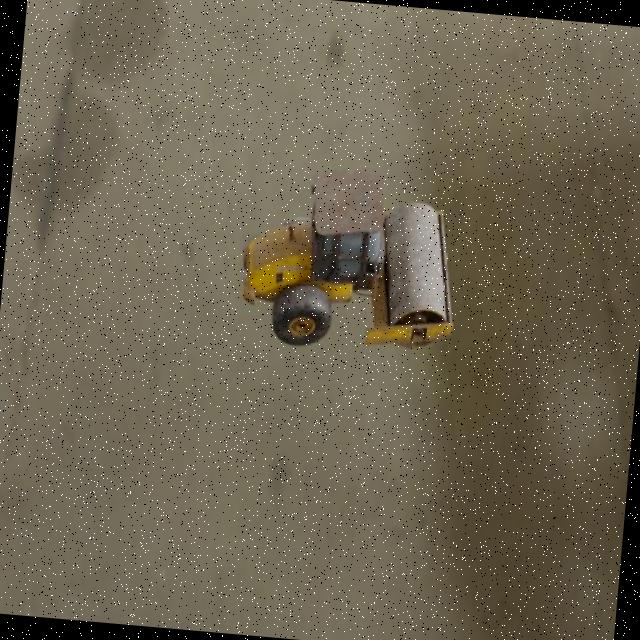Roller: (234, 155, 465, 359)
